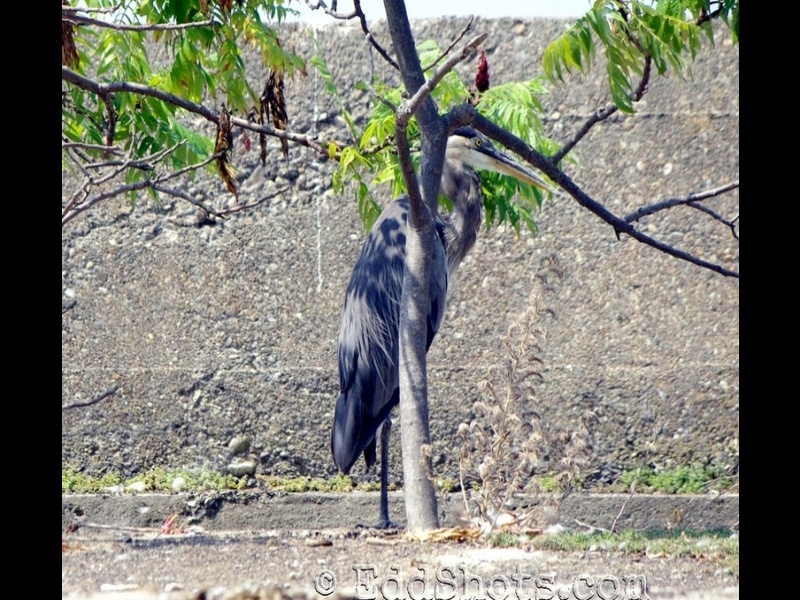heron: (319, 122, 576, 531)
